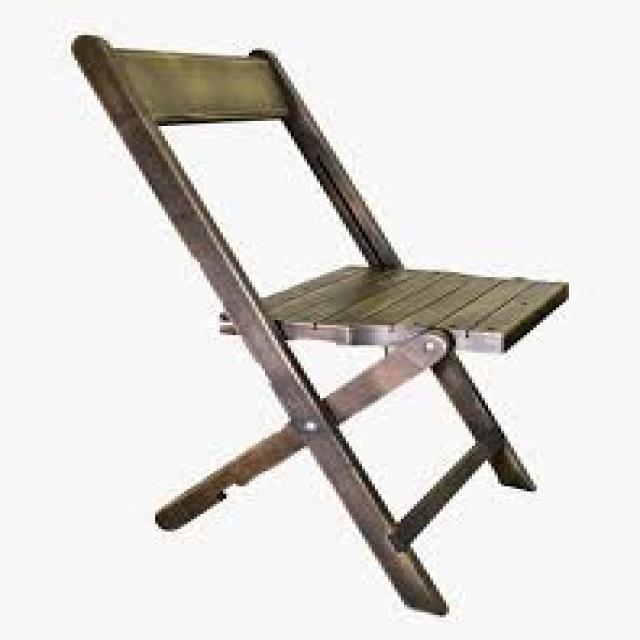chair: (69, 34, 575, 618)
